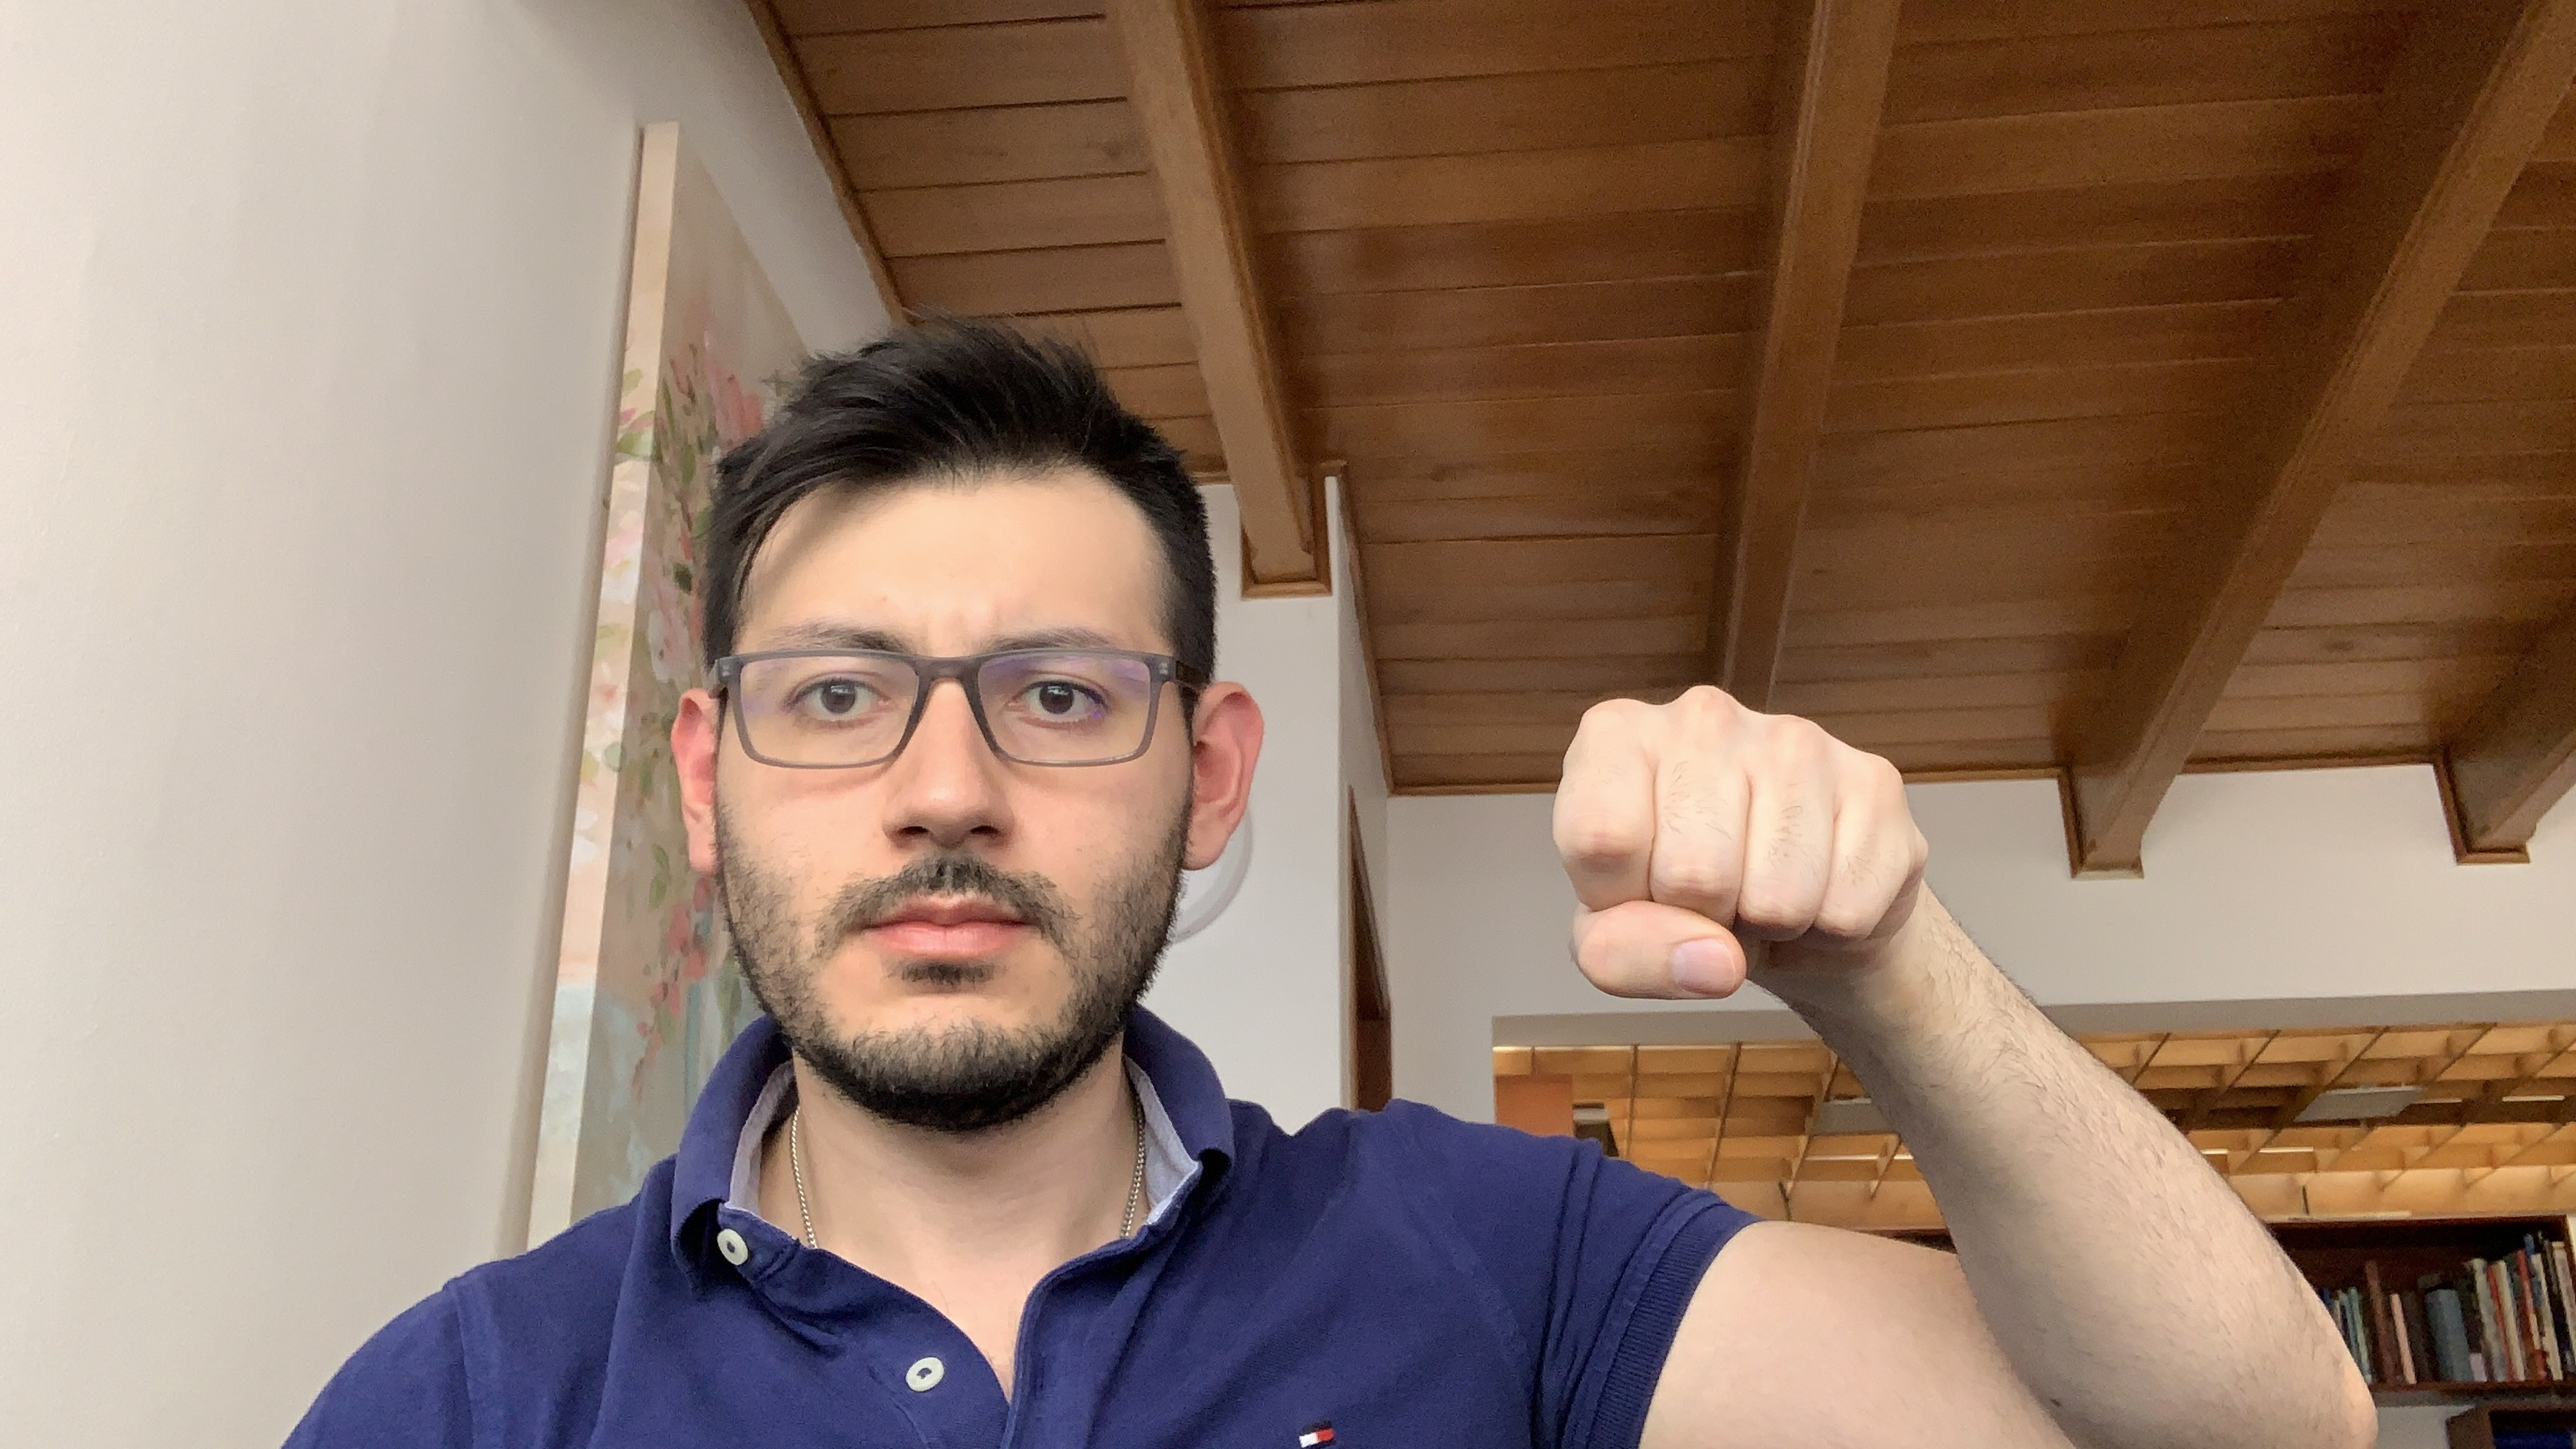Yes: (1534, 667, 1973, 1001)
